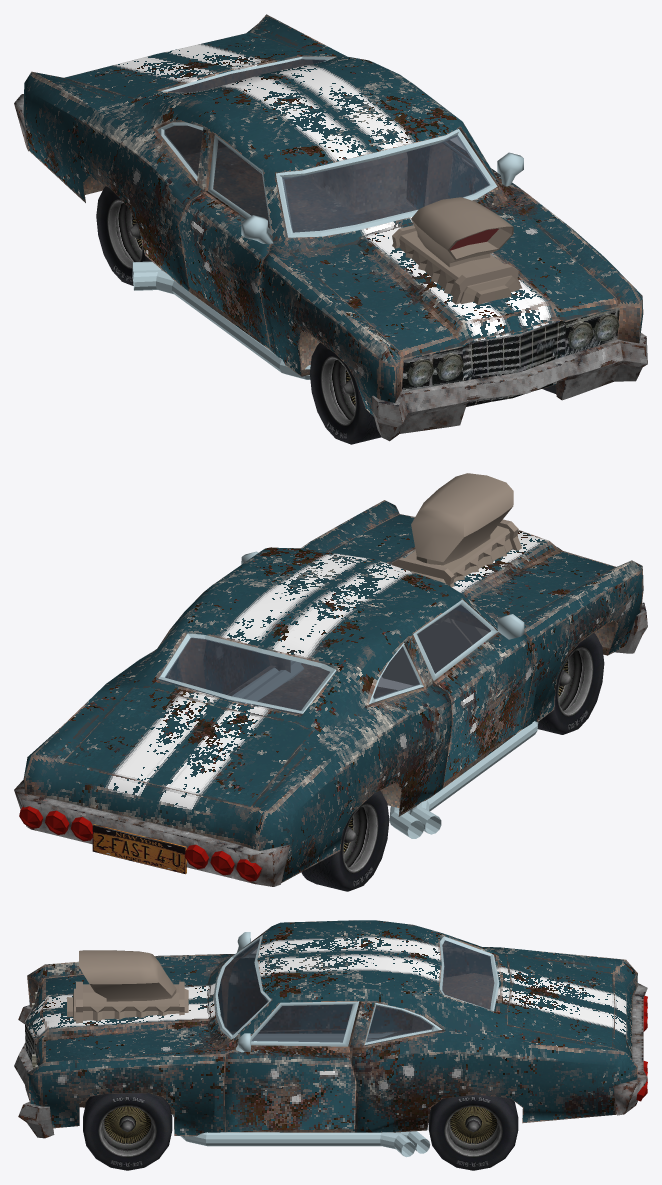
The model's file is Impala (2).glb.
The picture shows the model from 3 angles, top to bottom: view 1: azimuth 30°, elevation 25°; view 2: azimuth 150°, elevation 25°; view 3: azimuth 270°, elevation 25°; orthographic projection. The views are drawn at different scales.
Visible parts, largest first — view 1: Impala Body, Impala hood, Impala Door.R, front bumper.013, Engine, Tires.036, Tires.037, Exhaust.R, Impala Door.L; view 2: Impala Body, Impala Door.R, Engine, Impala hood, Tires.037, Tires.036, Impala Door.L, Exhaust.R, Exhaust.L, front bumper.013; view 3: Impala Body, Impala Door.L, Impala hood, Engine, Tires.035, Tires.002, Impala Door.R, Exhaust.L, front bumper.013, Exhaust.R.
Part boxes in pixels (x1,y1,x2,y2): Impala Body: [14, 14, 643, 416]; Impala hood: [291, 200, 617, 358]; Impala Door.R: [178, 134, 273, 349]; front bumper.013: [371, 333, 647, 441]; Engine: [392, 197, 561, 355]; Tires.036: [309, 342, 381, 444]; Tires.037: [96, 186, 151, 285]; Exhaust.R: [132, 261, 310, 379]; Impala Door.L: [425, 140, 523, 205]; Impala Body: [14, 500, 643, 886]; Impala Door.R: [413, 599, 535, 782]; Engine: [382, 473, 521, 685]; Impala hood: [329, 514, 615, 620]; Tires.037: [301, 791, 389, 891]; Tires.036: [537, 633, 604, 734]; Impala Door.L: [179, 551, 269, 697]; Exhaust.R: [389, 721, 538, 838]; Exhaust.L: [227, 661, 303, 704]; front bumper.013: [614, 602, 647, 653]; Impala Body: [25, 920, 647, 1136]; Impala Door.L: [224, 1001, 359, 1132]; Impala hood: [29, 963, 219, 1064]; Engine: [67, 950, 188, 1057]; Tires.035: [83, 1093, 172, 1170]; Tires.002: [428, 1094, 518, 1170]; Impala Door.R: [227, 932, 352, 1033]; Exhaust.L: [172, 1114, 430, 1157]; front bumper.013: [14, 1005, 54, 1138]; Exhaust.R: [233, 1032, 393, 1042].
Bounding box in the file's own units: 3.46 × 2.25 × 7.57.
12 materials, 6 textured.
